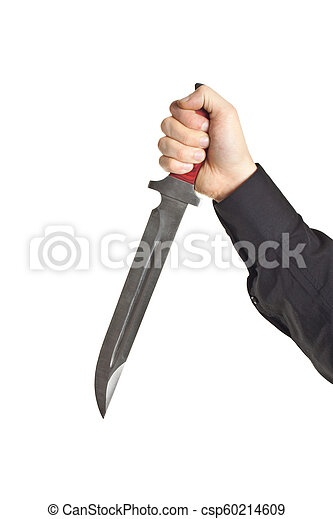knife: (91, 83, 210, 421)
